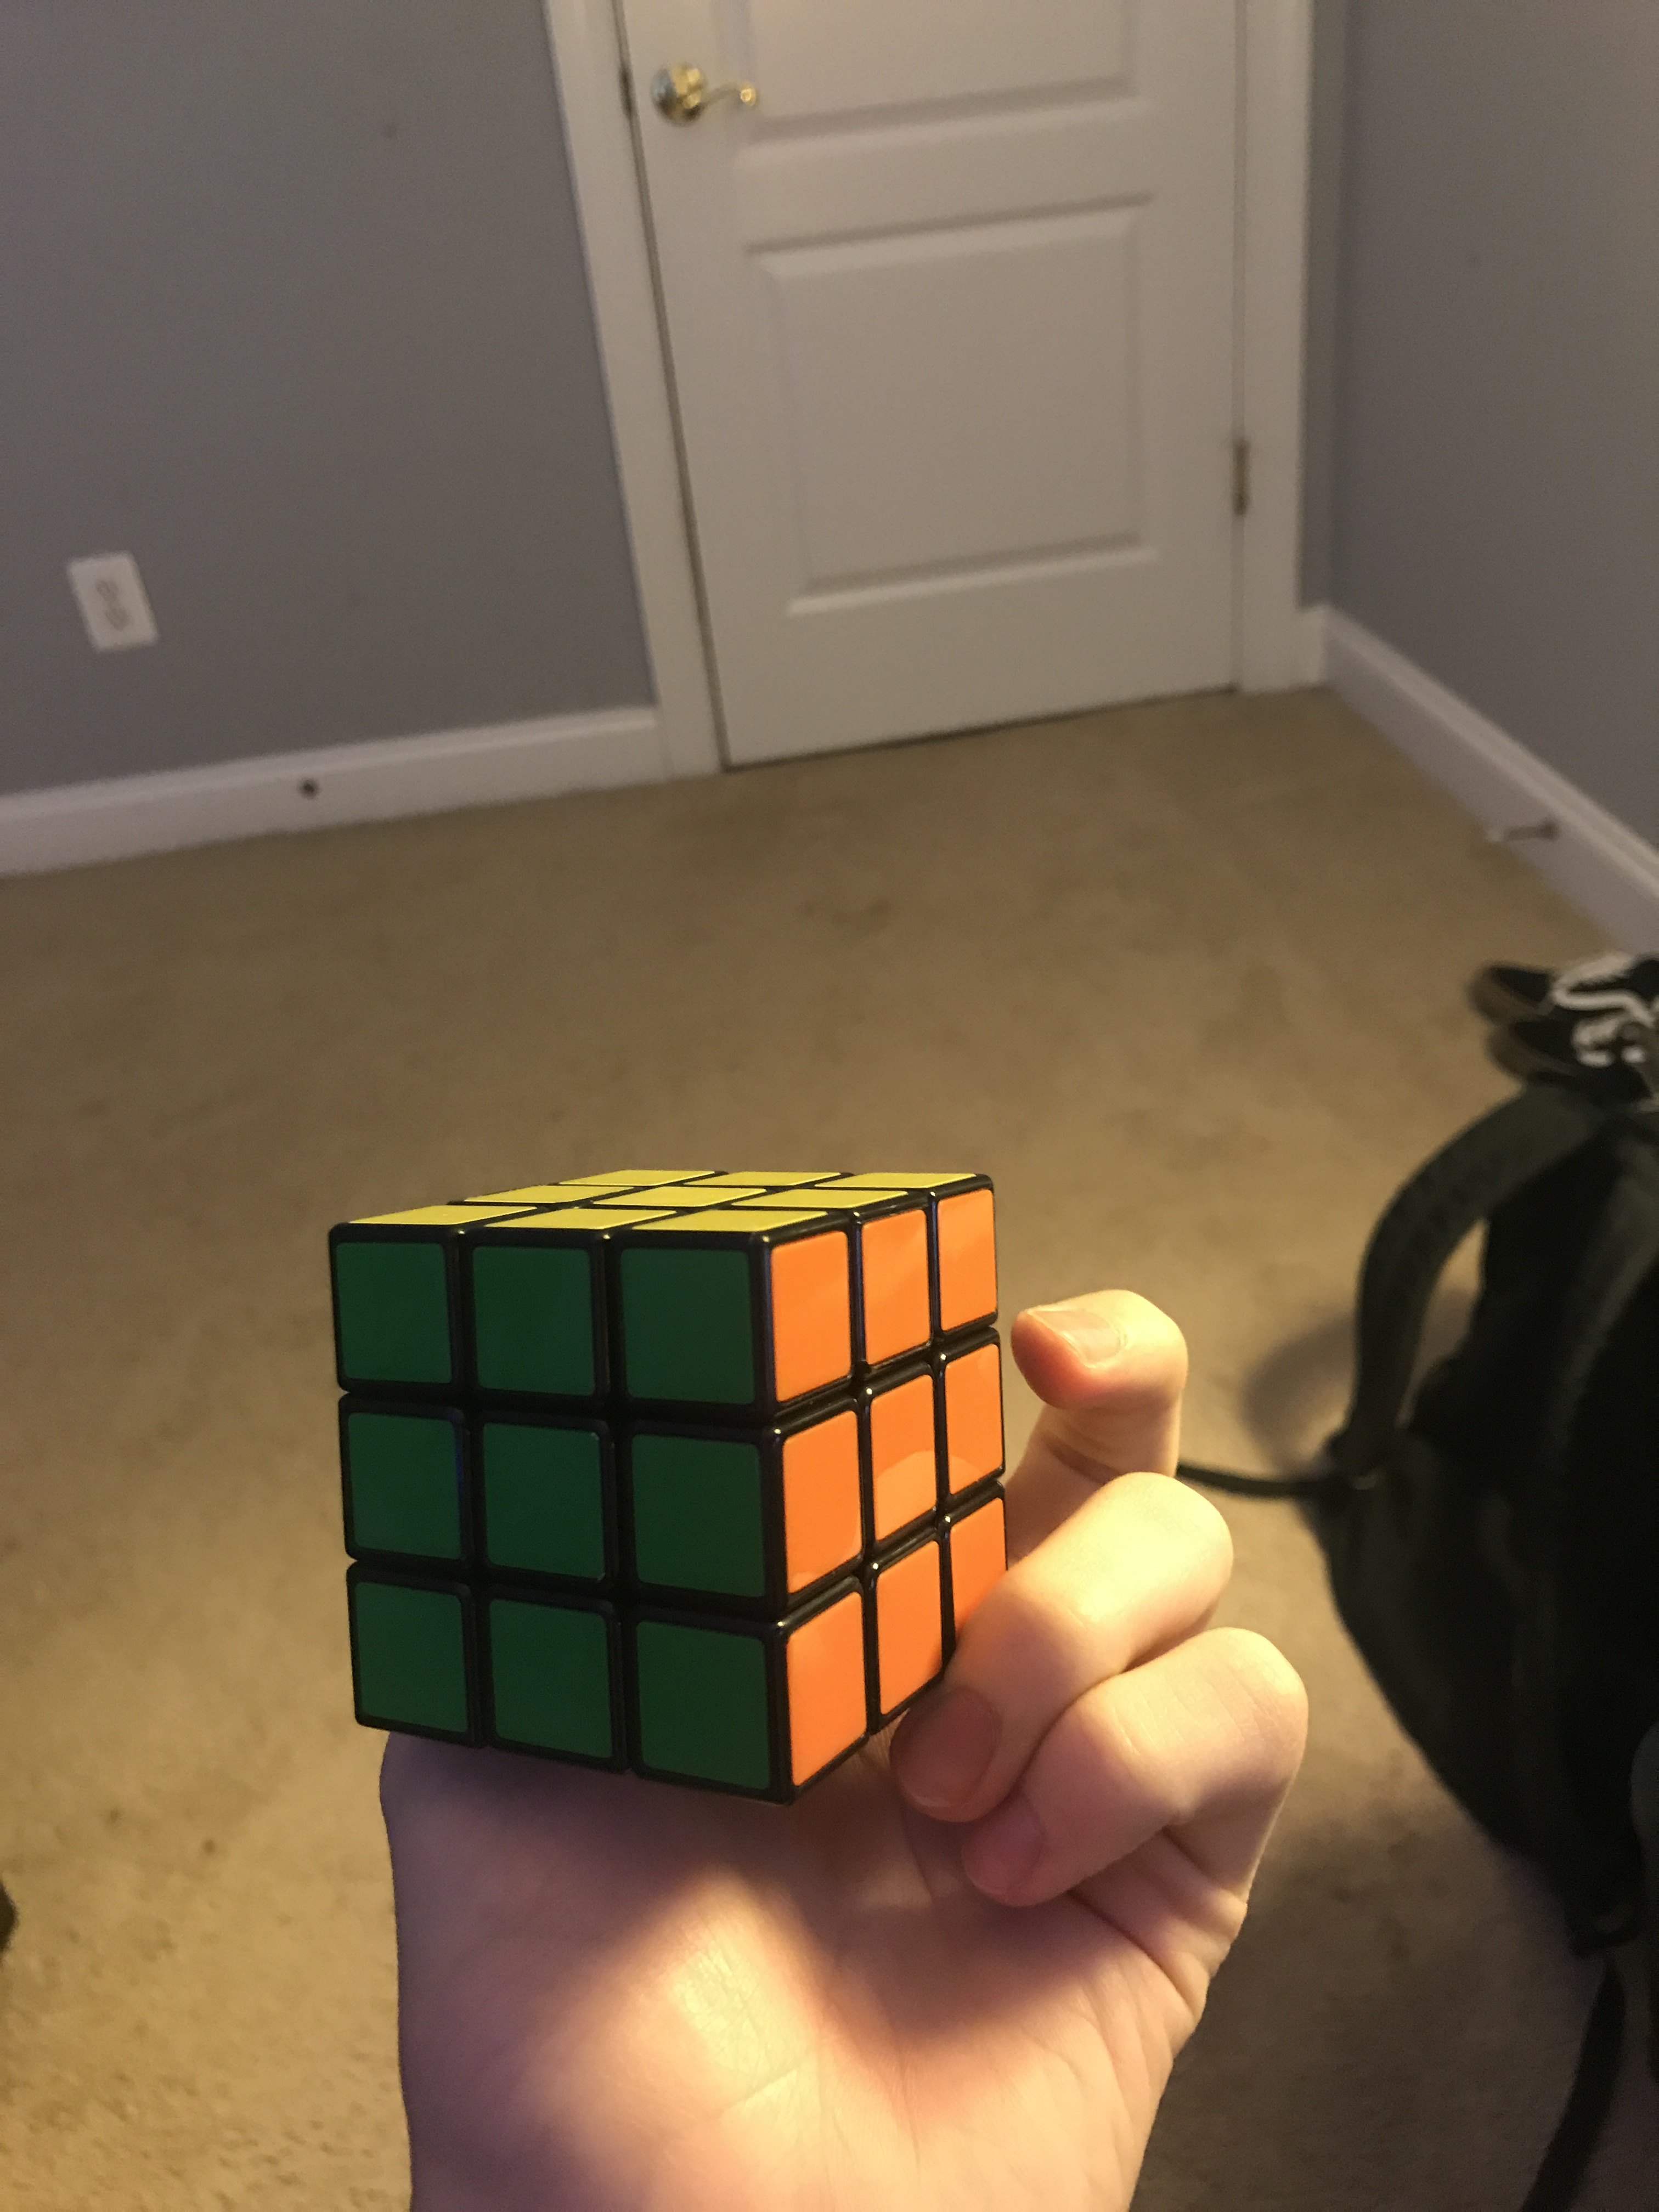rubiks: (329, 1158, 1051, 1811)
